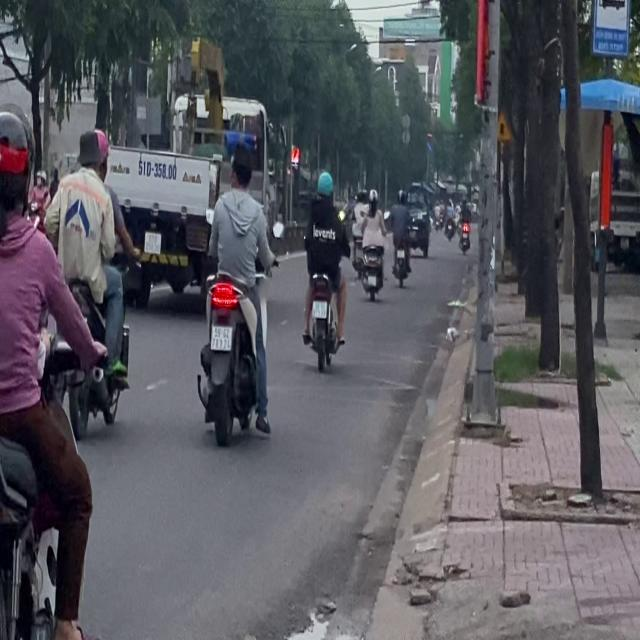helmet: (0, 109, 34, 219), (80, 127, 109, 176), (315, 171, 334, 202)
licenseplate: (0, 108, 104, 636), (51, 124, 134, 443), (194, 136, 274, 444), (299, 168, 349, 370)
motorcyclist: (227, 140, 254, 191), (78, 127, 100, 175)
nohelmet: (211, 324, 231, 349), (312, 300, 327, 318)
